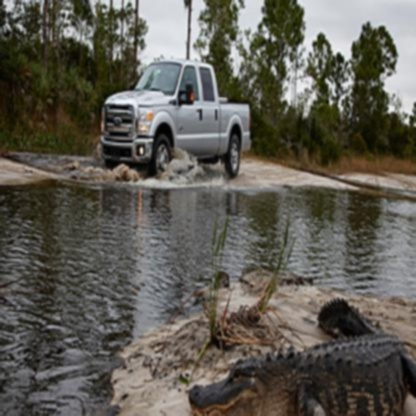Vehicle: (100, 62, 252, 185)
